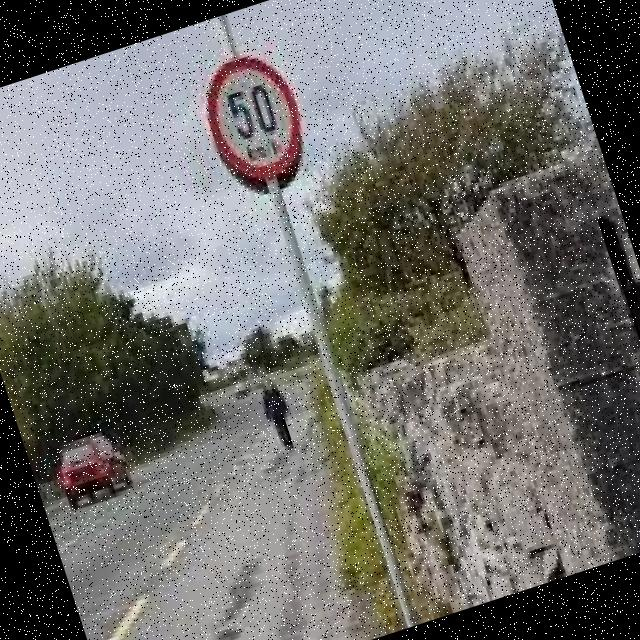speed_limit_50: (184, 36, 330, 200)
